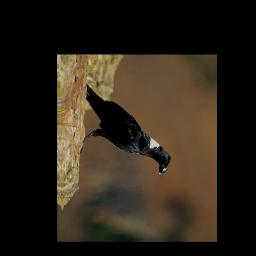Crow: (77, 81, 172, 177)
